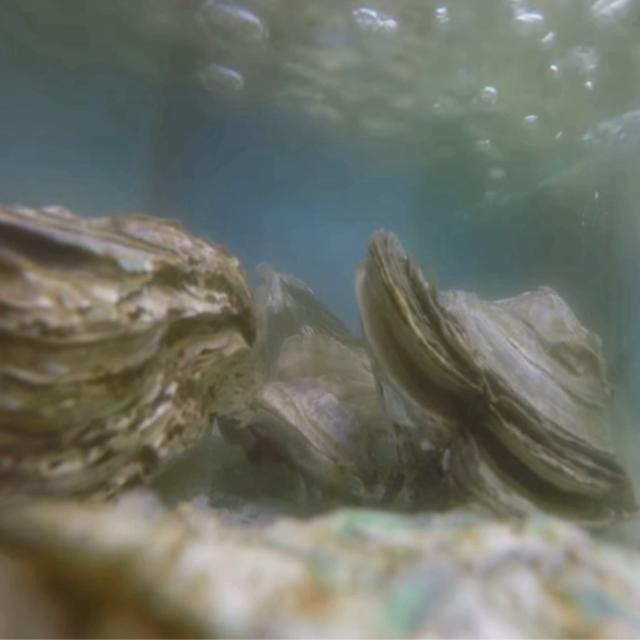Oyster-Closed: (0, 204, 258, 539), (257, 337, 416, 512)
Oyster-Indeterminate: (0, 491, 640, 640)
Oyster-Open: (352, 229, 640, 539)
